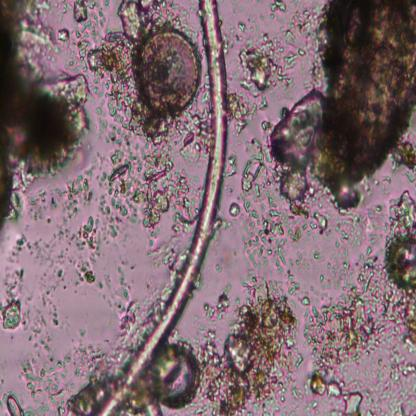Background material: (270, 1, 416, 218), (0, 0, 99, 223), (198, 279, 297, 412), (300, 258, 383, 370), (102, 144, 195, 224), (90, 3, 139, 139), (381, 194, 416, 352), (242, 195, 289, 273), (29, 347, 80, 414), (241, 34, 289, 101), (364, 354, 416, 414), (307, 372, 364, 416), (112, 292, 151, 351), (240, 135, 272, 202), (34, 227, 72, 283), (150, 224, 191, 275), (329, 213, 379, 254), (173, 112, 211, 160), (76, 320, 106, 376), (1, 266, 26, 331), (226, 92, 257, 137), (67, 23, 92, 74), (289, 211, 328, 242), (62, 176, 96, 211), (286, 249, 304, 304), (74, 217, 102, 251), (106, 270, 136, 301), (202, 292, 231, 324), (8, 232, 34, 266), (284, 29, 308, 64), (40, 287, 60, 327), (106, 226, 131, 257), (73, 258, 97, 287), (25, 325, 50, 352), (2, 390, 25, 415), (70, 2, 97, 20), (226, 156, 241, 180), (227, 197, 242, 220), (57, 24, 70, 44), (271, 0, 289, 14), (235, 21, 246, 42)
Diatom: (137, 32, 201, 115), (151, 346, 200, 407)
Microfibre: (98, 0, 228, 416)
